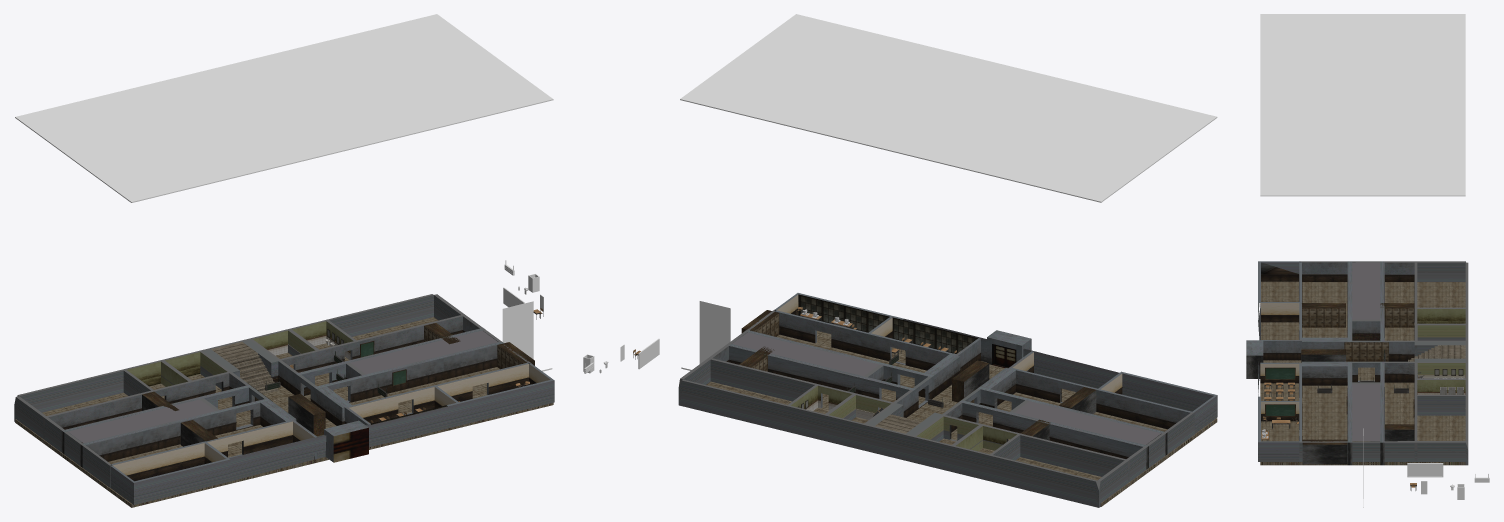
The model's file is Interior_Escuela.fbx.
3 views of the same model, side by side, from view 1: azimuth 30°, elevation 25°; view 2: azimuth 150°, elevation 25°; view 3: azimuth 270°, elevation 25° (orthographic). The views are drawn at different scales.
Parts seen in each view (by area): view 1: Cube.004, Plane.011, Plane, Puerta, Cube.005, Cube.001, Cube; view 2: Cube.004, Plane.011, Plane, Puerta, Cube; view 3: Plane.011, Cube.004, Plane, Puerta, Cube.005, Plane.002, Plane.012, Plane.036.
Boxes of the visible parts, x1,y1,x2,y2 form: Cube.004: [14, 294, 554, 504]; Plane.011: [15, 14, 553, 202]; Plane: [15, 317, 553, 507]; Puerta: [324, 420, 368, 462]; Cube.005: [211, 342, 278, 393]; Cube.001: [502, 304, 520, 349]; Cube: [521, 301, 552, 371]; Cube.004: [678, 293, 1217, 507]; Plane.011: [680, 14, 1217, 202]; Plane: [706, 331, 1217, 506]; Puerta: [987, 330, 1031, 367]; Cube: [681, 301, 717, 370]; Plane.011: [1260, 14, 1465, 196]; Cube.004: [1258, 261, 1468, 465]; Plane: [1260, 281, 1465, 465]; Puerta: [1246, 340, 1263, 378]; Cube.005: [1408, 345, 1465, 361]; Plane.002: [1407, 463, 1443, 477]; Plane.012: [1265, 367, 1295, 379]; Plane.036: [1265, 404, 1295, 416].
Bounding box in the file's own units: 23318 × 14004 × 10729.
